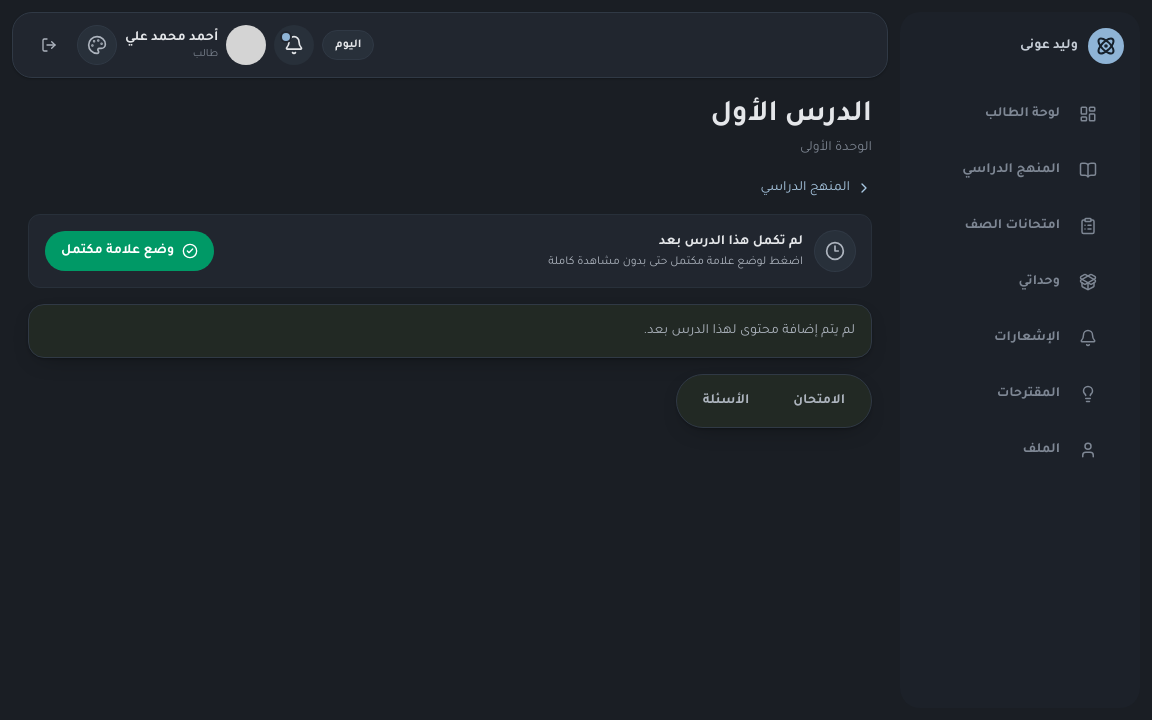
Test case: StudentLessonPage — exams tab › shows the result for an already-graded attempt and hides the form
Step 1. Click the tab with test id "lesson-tab-exams" → (819, 401), box [773,381,865,421]
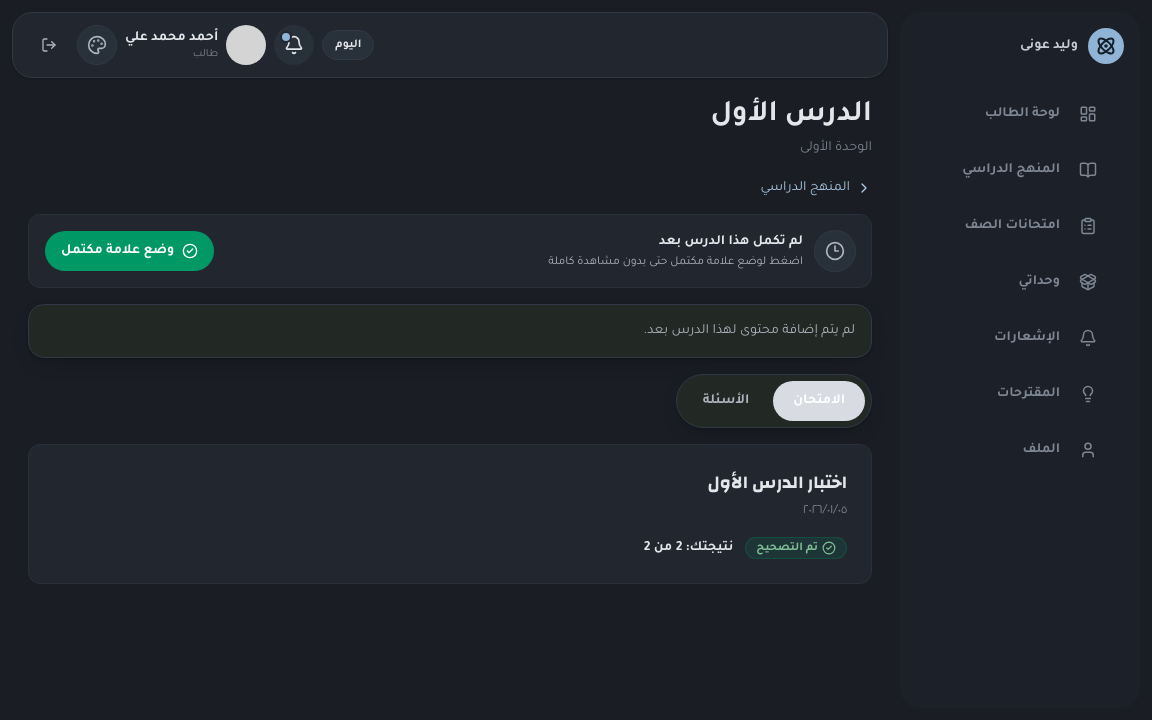
Now the element with test id "exam-result-exam-1" is shown, box [644,537,847,559]
Now the text "نتيجتك: 2 من 2" is shown, box [644,538,733,558]
